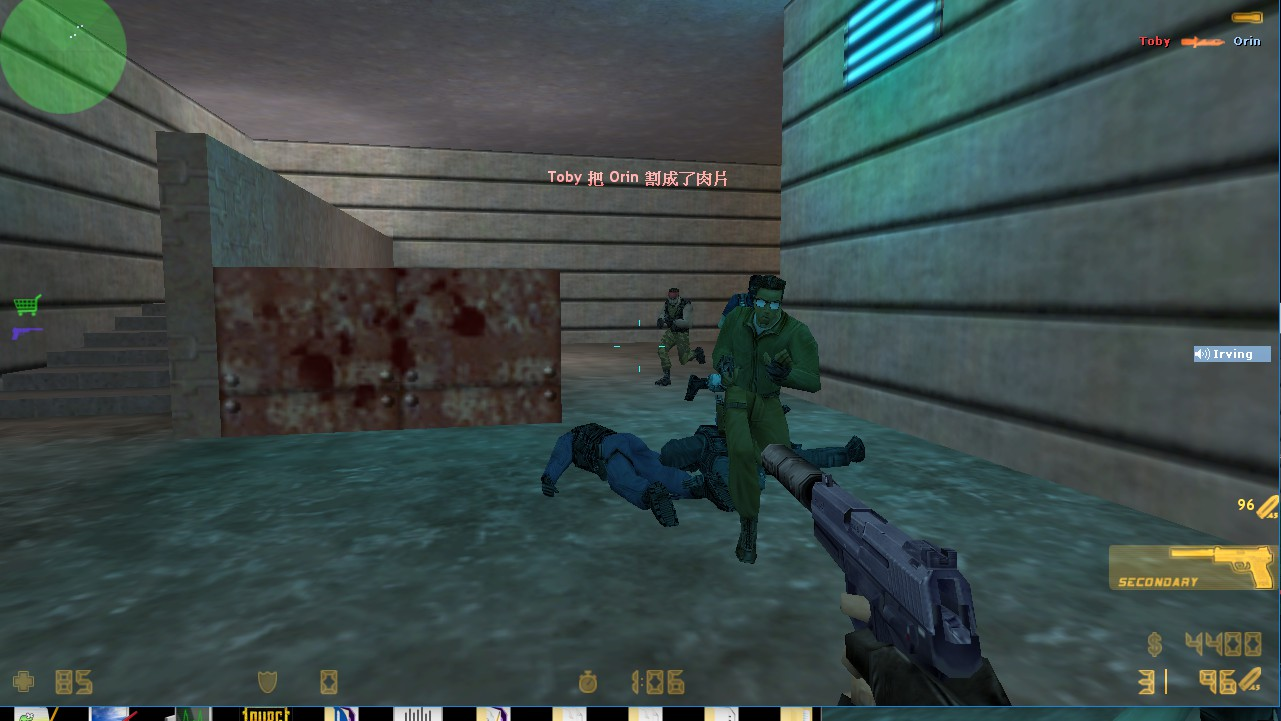person: (707, 271, 824, 567), (655, 277, 705, 392)
